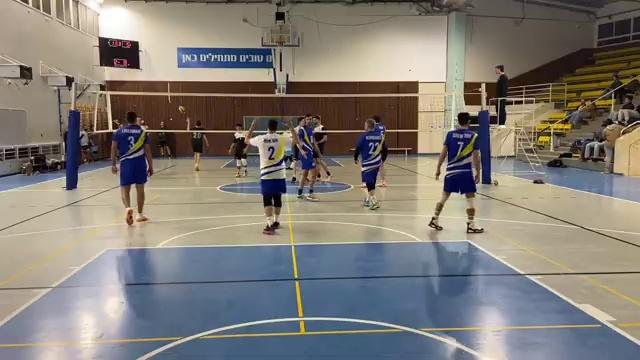ball: (177, 105, 188, 115)
